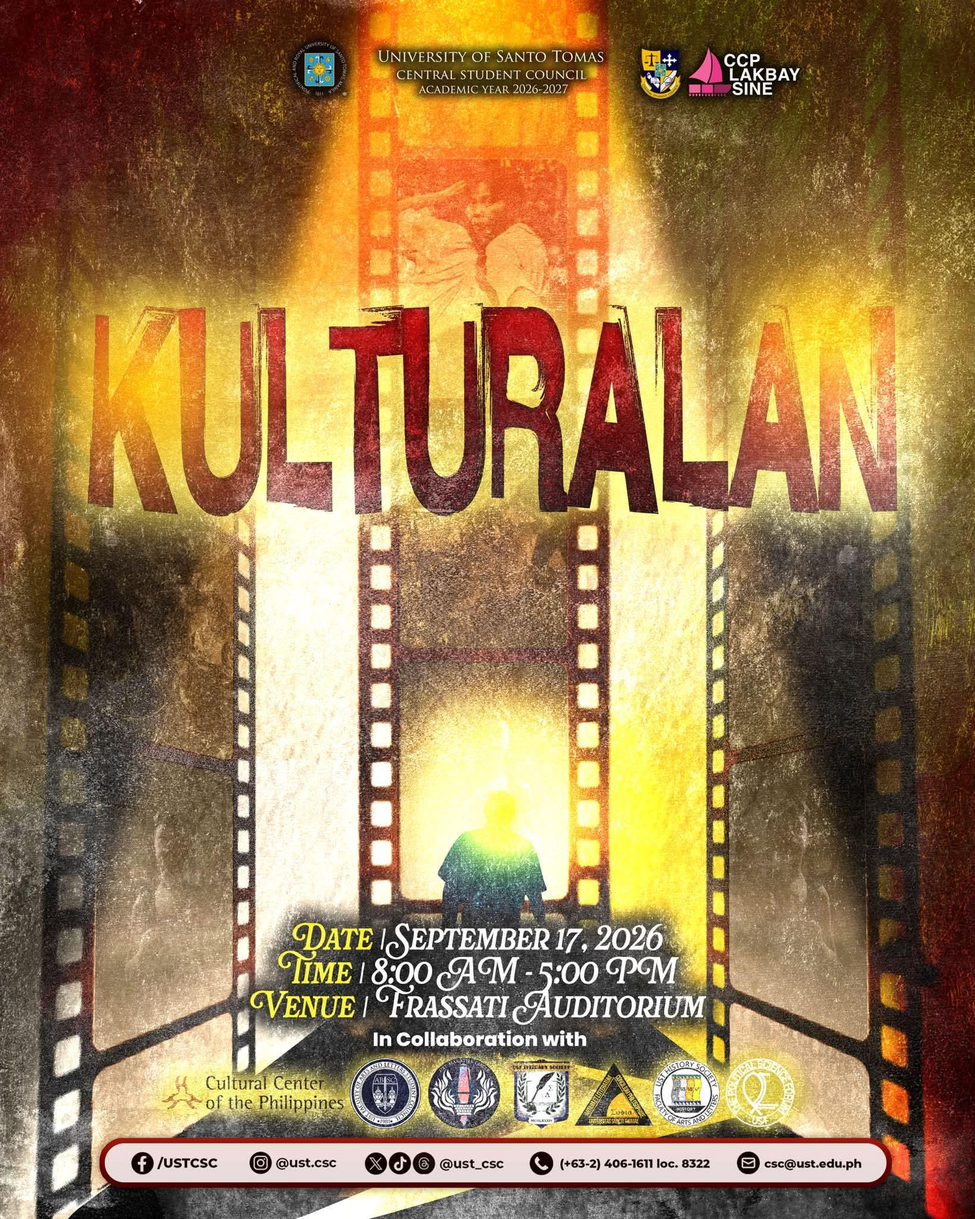embellishment: (362, 1147, 439, 1178), (526, 1147, 557, 1177), (733, 1146, 762, 1178), (128, 1148, 155, 1176), (248, 1148, 272, 1177)
logo: (159, 1067, 350, 1120), (687, 43, 805, 102), (427, 1054, 507, 1132), (572, 1056, 654, 1132), (724, 1053, 801, 1131), (350, 1056, 424, 1128), (653, 1054, 719, 1128), (511, 1054, 573, 1126), (288, 36, 353, 101), (635, 39, 686, 103)
text: (77, 290, 918, 528), (245, 914, 712, 1052), (375, 44, 611, 102), (556, 1151, 713, 1174), (763, 1151, 871, 1175), (155, 1150, 227, 1172), (436, 1153, 511, 1174), (275, 1152, 341, 1173)
underlay: (98, 1137, 895, 1190)
